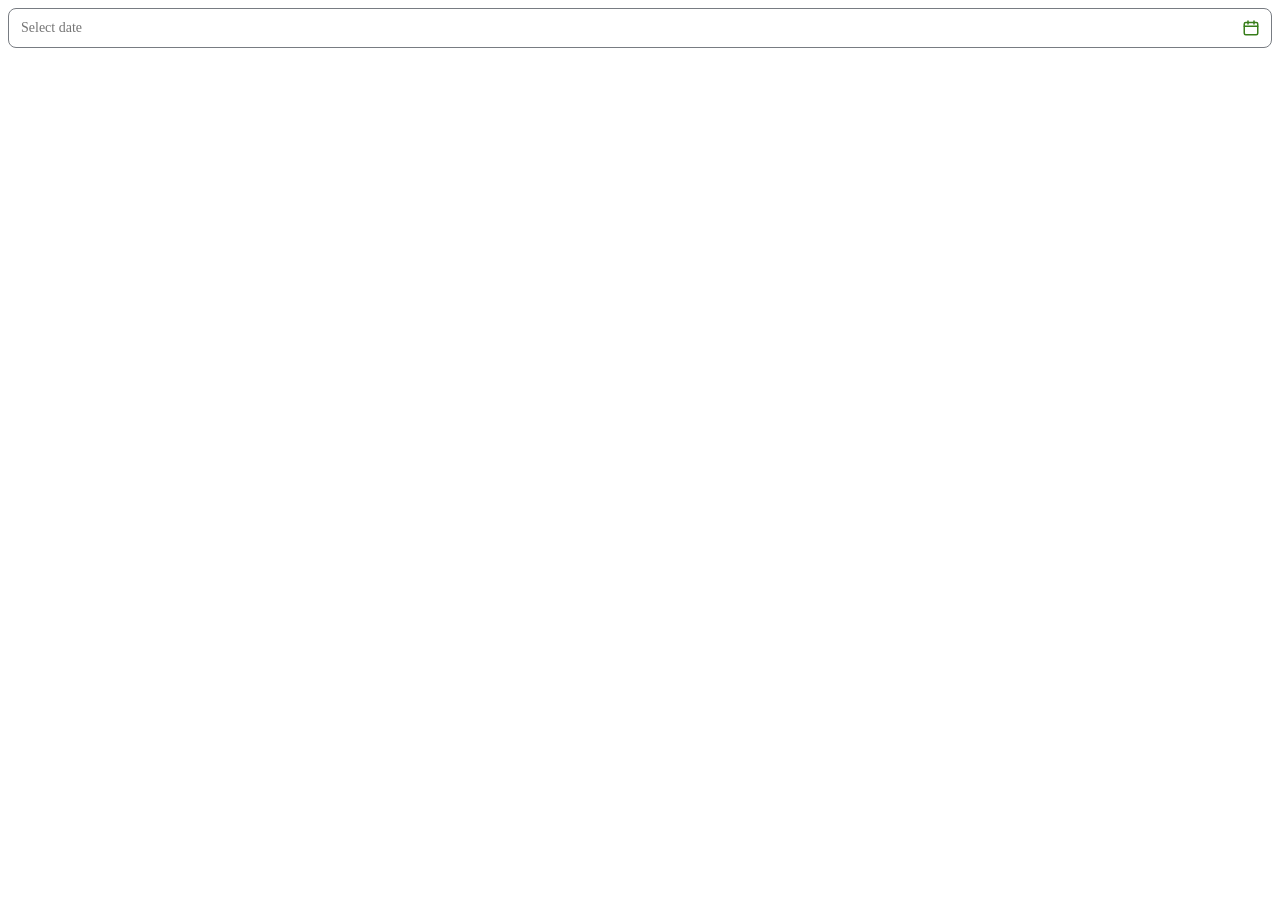
Scenario: DatePicker › localises names and week start
Click the field named "Event date" at x=621, y=28, box 9,9 -> 1233,47
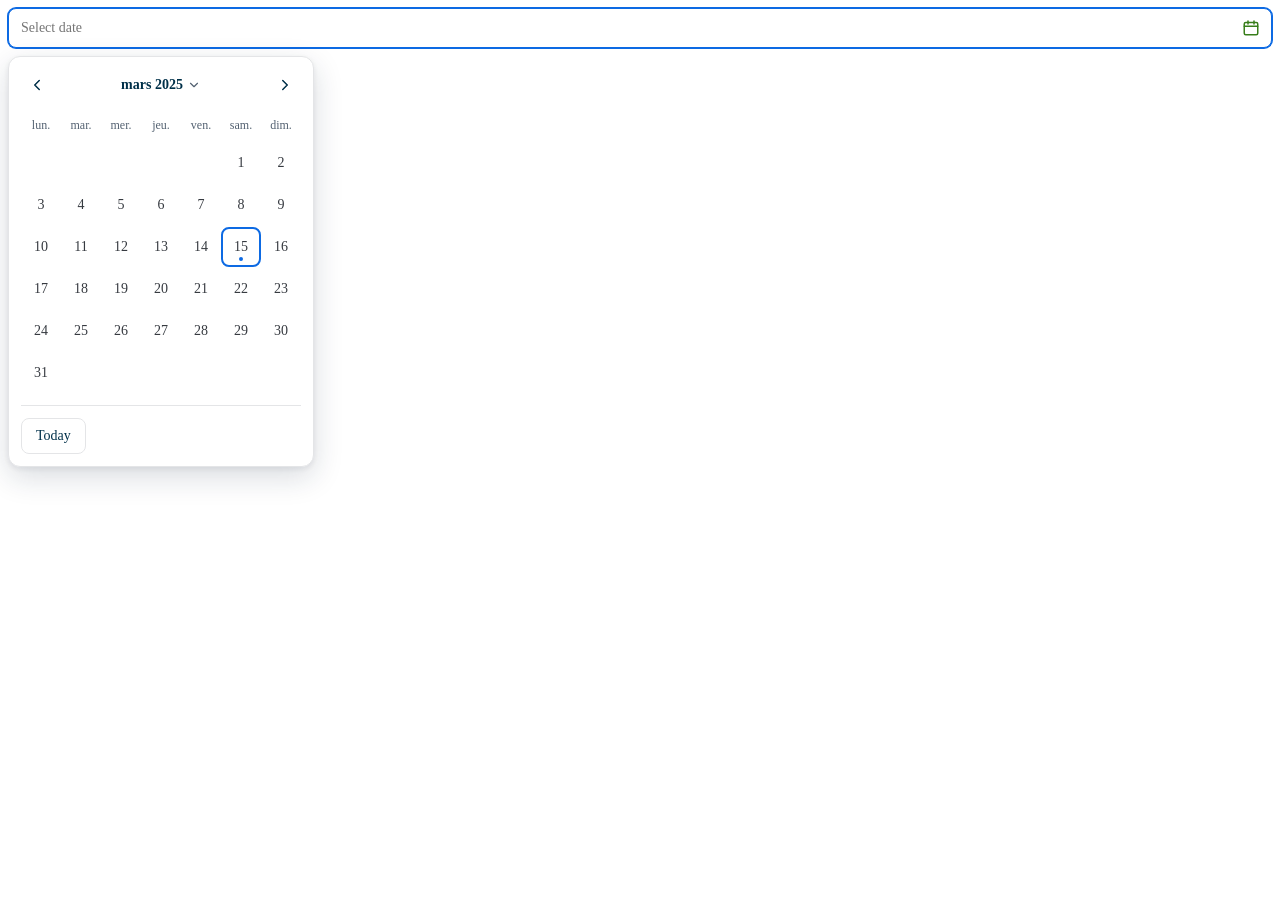
expect the text "mars 2025" is shown: met, box 121,76 -> 183,94
